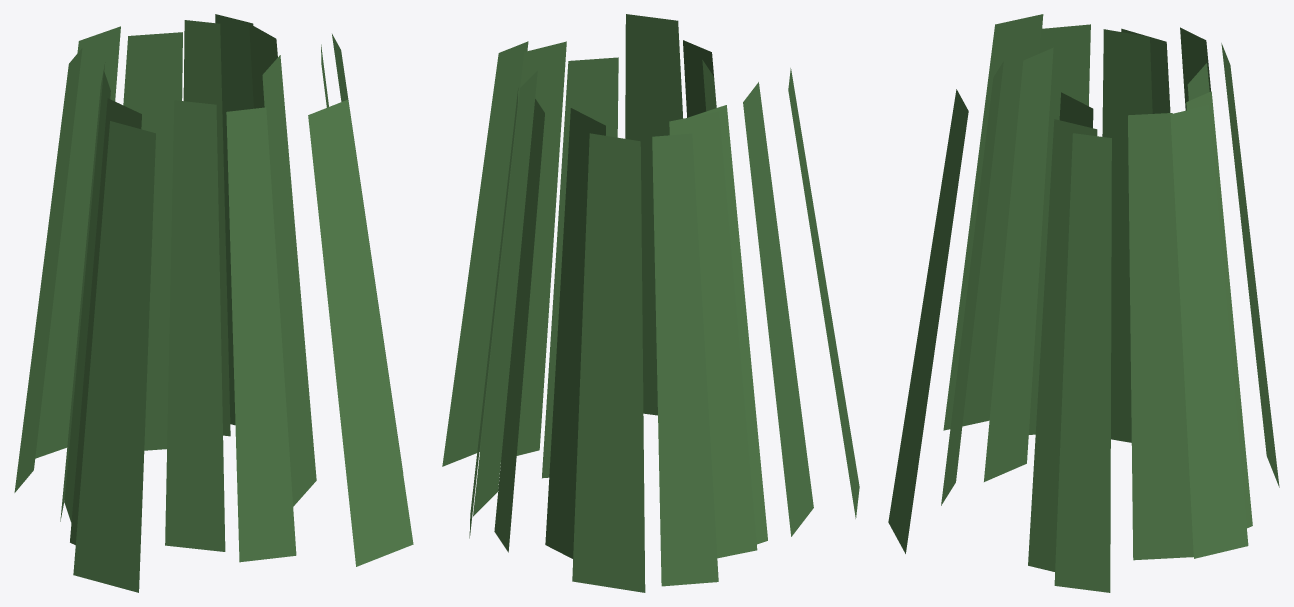
Rendered from grass-tuft.glb.
The picture shows the model from 3 angles, left to right: view 1: azimuth 30°, elevation 25°; view 2: azimuth 150°, elevation 25°; view 3: azimuth 270°, elevation 25°; orthographic projection.
Parts seen in each view (by area): view 1: Foliage; view 2: Foliage; view 3: Foliage.
Part boxes in pixels (x1,y1,x2,y2): Foliage: [14, 14, 413, 592]; Foliage: [442, 14, 859, 592]; Foliage: [888, 14, 1279, 592].
Bounding box in the file's own units: 0.1469 × 0.165 × 0.137.
